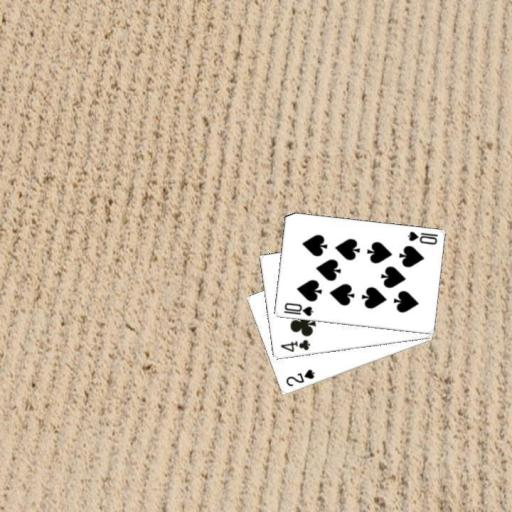card-corner: (282, 366, 316, 388), (404, 228, 439, 246), (278, 336, 312, 354), (280, 300, 314, 318)
